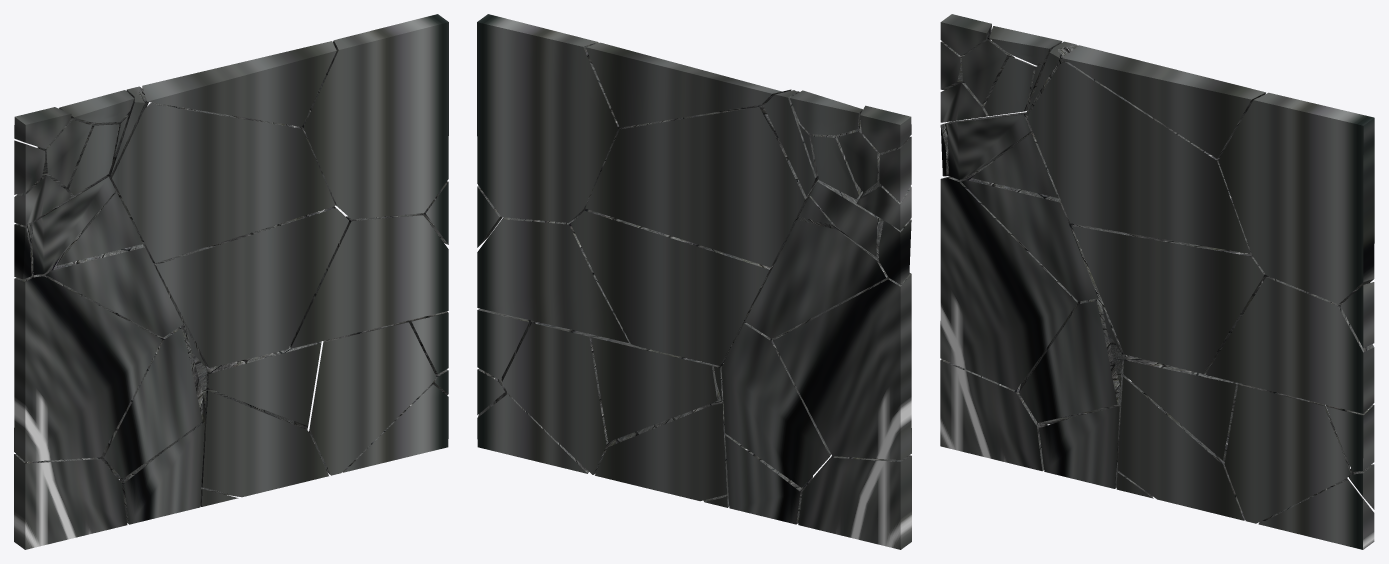
The model's file is Smashed Brick.fbx.
3 views of the same model, side by side, from view 1: azimuth 30°, elevation 25°; view 2: azimuth 150°, elevation 25°; view 3: azimuth 330°, elevation 25° (orthographic).
Visible parts, largest first — view 1: removable_brick_cell_cell.012, removable_brick_cell_cell, removable_brick_cell.002_cell, removable_brick_cell_cell.003, removable_brick_cell_cell.007, removable_brick_cell.001_cell.002, removable_brick_cell.001_cell.010, removable_brick_cell_cell.010, removable_brick_cell.002_cell.001, removable_brick_cell.002_cell.004, removable_brick_cell.002_cell.015, removable_brick_cell.001_cell.004 (+14 smaller); view 2: removable_brick_cell_cell.012, removable_brick_cell_cell, removable_brick_cell.002_cell, removable_brick_cell_cell.003, removable_brick_cell_cell.007, removable_brick_cell.002_cell.004, removable_brick_cell.001_cell.002, removable_brick_cell.002_cell.015, removable_brick_cell_cell.010, removable_brick_cell.001_cell.010, removable_brick_cell.001_cell.004, removable_brick_cell.002_cell.001 (+15 smaller); view 3: removable_brick_cell_cell, removable_brick_cell_cell.012, removable_brick_cell.002_cell, removable_brick_cell_cell.003, removable_brick_cell_cell.007, removable_brick_cell.001_cell.002, removable_brick_cell_cell.010, removable_brick_cell.001_cell.010, removable_brick_cell.002_cell.004, removable_brick_cell.002_cell.001, removable_brick_cell.002_cell.015, removable_brick_cell.001_cell.004 (+14 smaller).
Boxes of the visible parts, x1,y1,x2,y2 form: removable_brick_cell_cell.012: (111, 102, 335, 262); removable_brick_cell_cell: (300, 14, 448, 219); removable_brick_cell.002_cell: (14, 273, 162, 461); removable_brick_cell_cell.003: (153, 206, 349, 367); removable_brick_cell_cell.007: (290, 213, 448, 348); removable_brick_cell.001_cell.002: (309, 321, 435, 475); removable_brick_cell.001_cell.010: (200, 390, 328, 497); removable_brick_cell_cell.010: (142, 41, 336, 126); removable_brick_cell.002_cell.001: (14, 454, 127, 549); removable_brick_cell.002_cell.004: (98, 326, 202, 479); removable_brick_cell.002_cell.015: (40, 244, 183, 337); removable_brick_cell.001_cell.004: (206, 341, 321, 429); removable_brick_cell_cell.012: (585, 102, 818, 267); removable_brick_cell_cell: (477, 14, 623, 222); removable_brick_cell.002_cell: (773, 273, 911, 459); removable_brick_cell_cell.003: (571, 209, 774, 365); removable_brick_cell_cell.007: (477, 216, 629, 342); removable_brick_cell.002_cell.004: (721, 323, 830, 487); removable_brick_cell.001_cell.002: (501, 320, 613, 474); removable_brick_cell.002_cell.015: (745, 220, 887, 338); removable_brick_cell_cell.010: (585, 42, 791, 127); removable_brick_cell.001_cell.010: (595, 396, 728, 501); removable_brick_cell.001_cell.004: (591, 336, 720, 441); removable_brick_cell.002_cell.001: (798, 455, 911, 549); removable_brick_cell_cell: (1218, 92, 1374, 304); removable_brick_cell_cell.012: (1027, 62, 1251, 253); removable_brick_cell.002_cell: (940, 176, 1077, 390); removable_brick_cell_cell.003: (1072, 224, 1268, 373); removable_brick_cell_cell.007: (1206, 276, 1374, 413); removable_brick_cell.001_cell.002: (1224, 383, 1350, 523); removable_brick_cell_cell.010: (1060, 45, 1265, 158); removable_brick_cell.001_cell.010: (1117, 376, 1245, 520); removable_brick_cell.002_cell.004: (1019, 296, 1128, 424); removable_brick_cell.002_cell.001: (940, 359, 1047, 471); removable_brick_cell.002_cell.015: (960, 158, 1100, 301); removable_brick_cell.001_cell.004: (1123, 355, 1240, 461).
Bounding box in the file's own units: 44 × 42.21 × 2.
